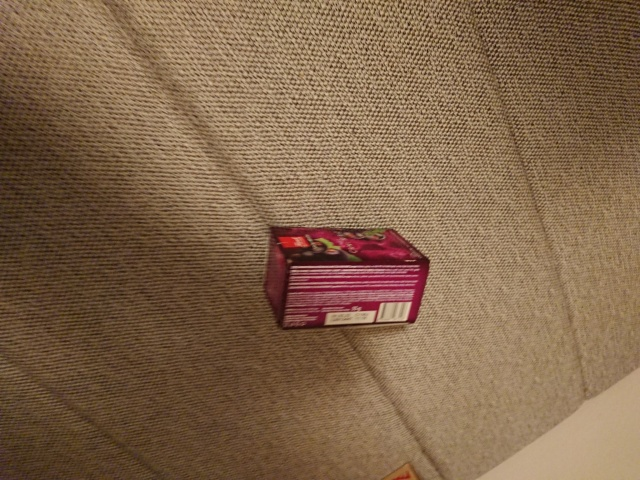Franck Black Currant Tea 60g: (259, 223, 433, 333)
